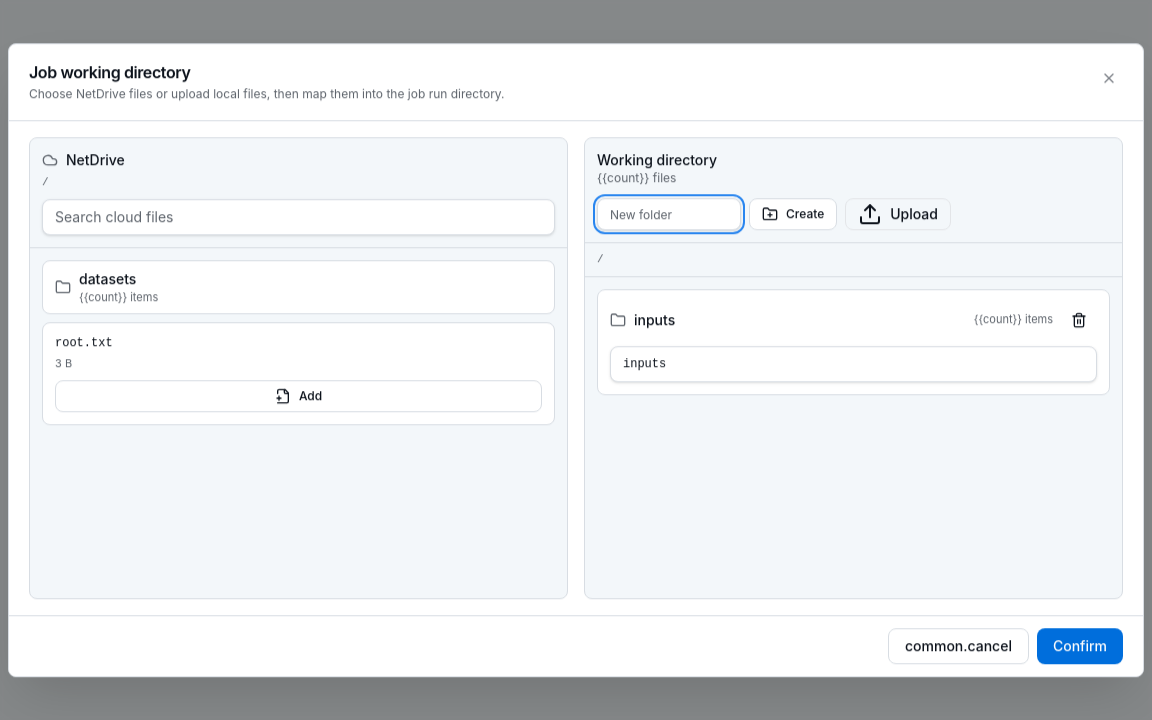
CommandWorkdirDialog › blocks confirmation when two entries target the same stagePath
The width and height of the screenshot is (1152, 720).
Click the button with test id "command-workdir-confirm" at (1080, 646), box [1037,628,1123,664]
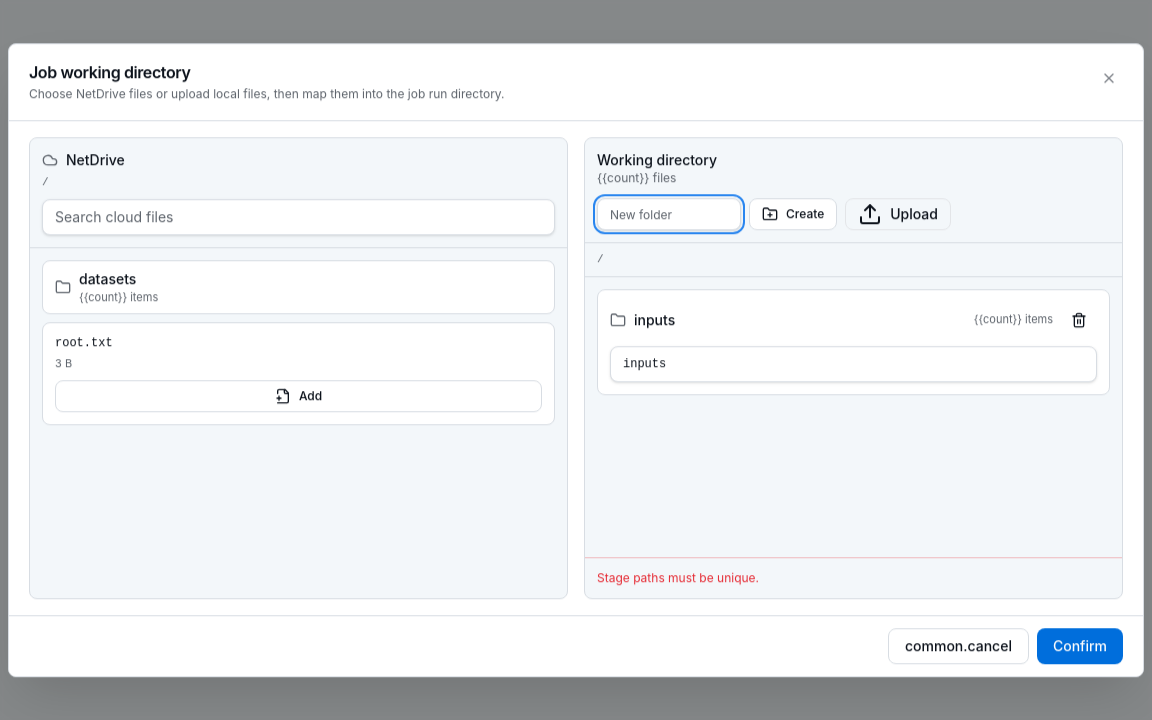
Check: the text "Stage paths must be unique." is shown, box [597,570,759,585]
